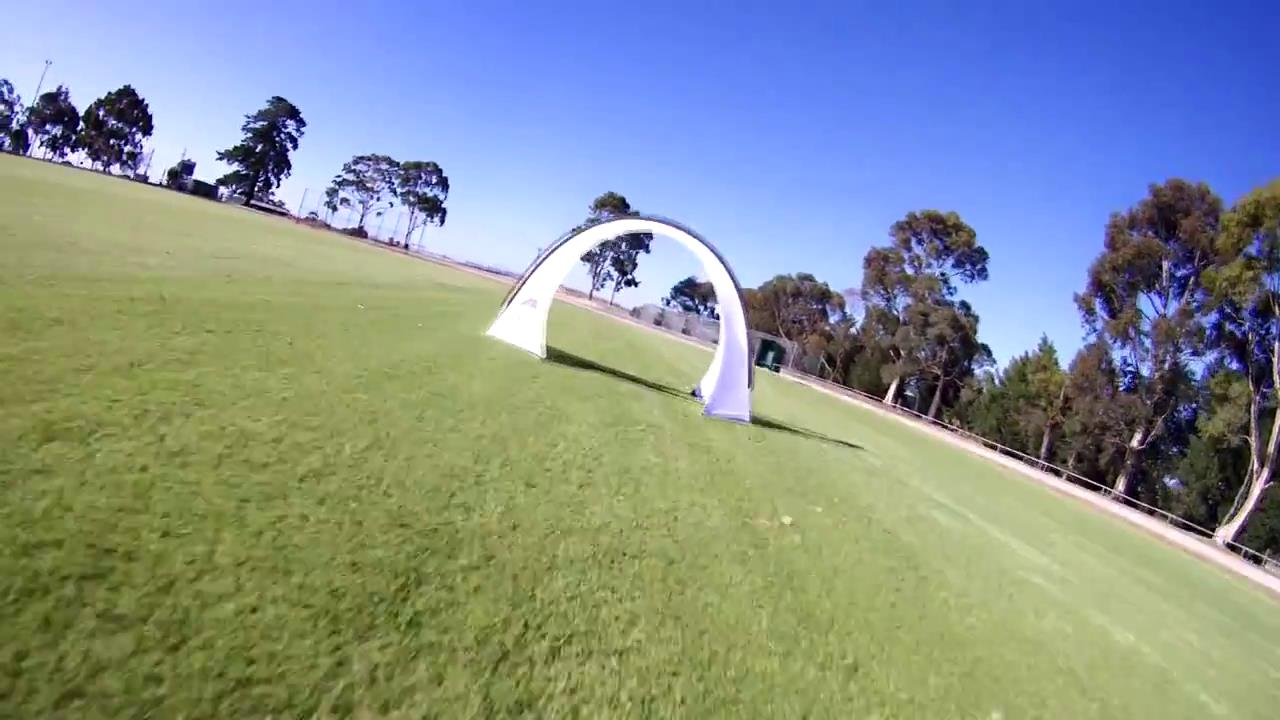gate: (483, 213, 756, 426)
